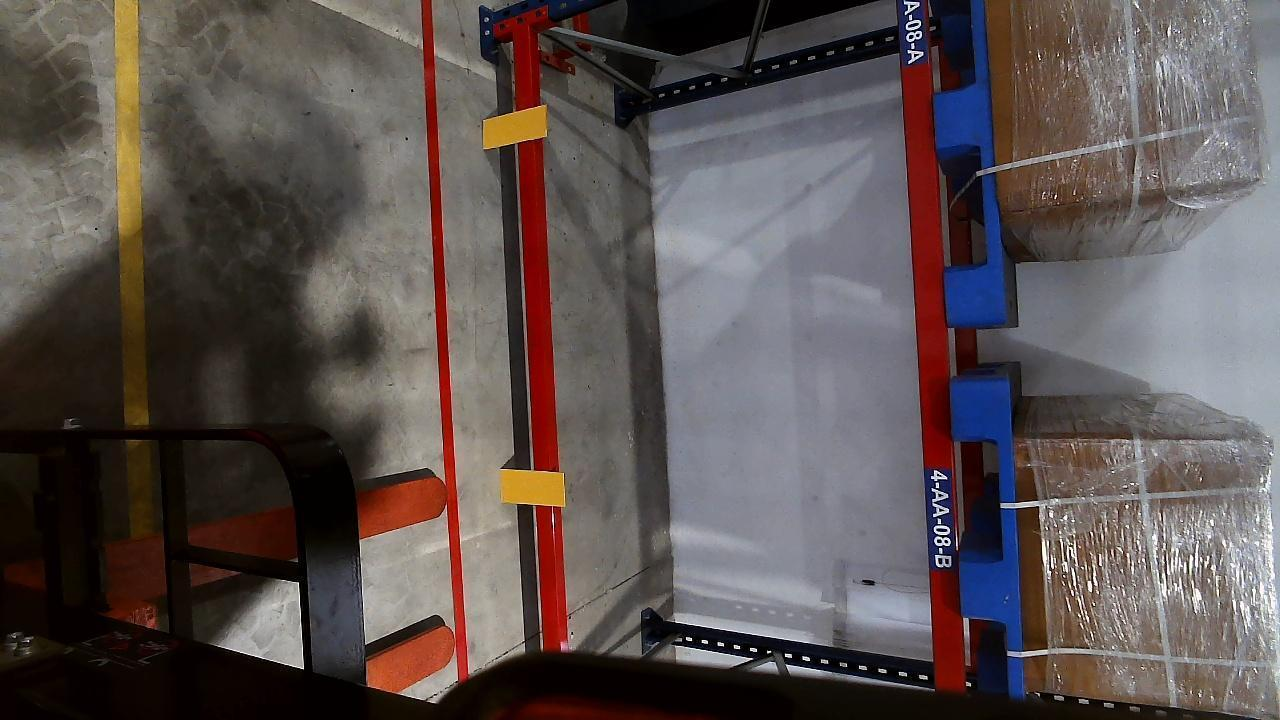red_line: (409, 8, 467, 669)
yellow_line: (111, 1, 148, 423)
